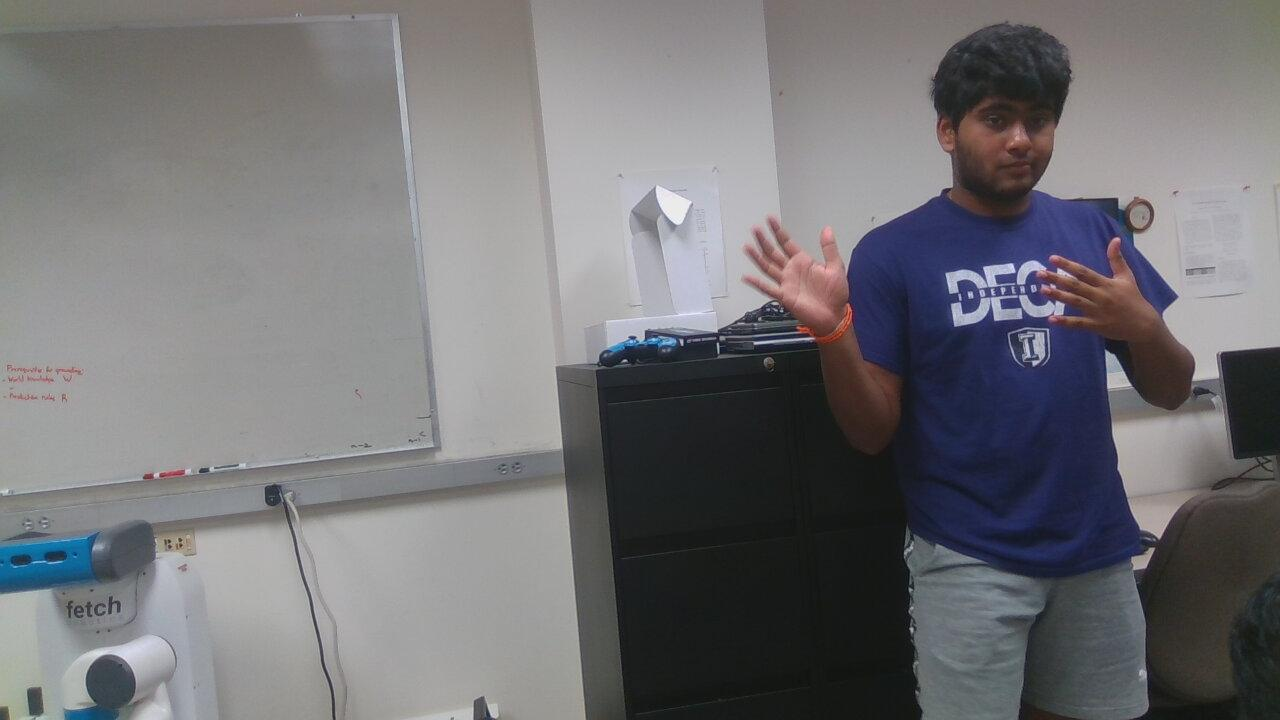hands: (1023, 237, 1172, 365), (731, 207, 852, 345)
